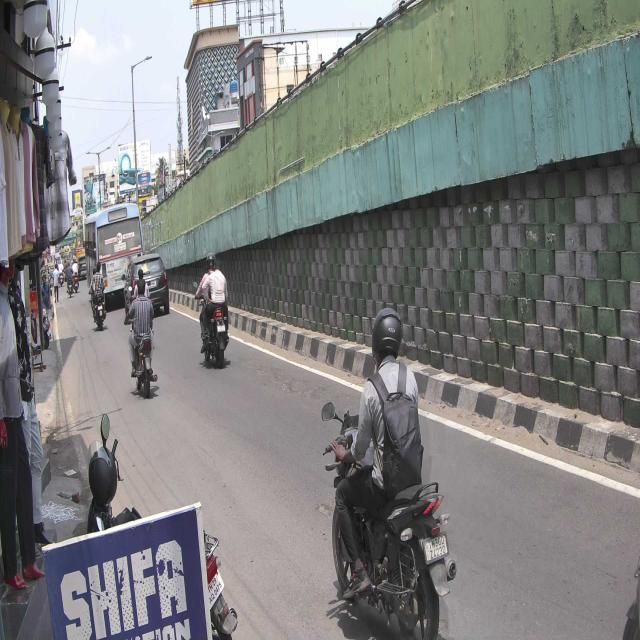single_rider: (321, 308, 459, 640)
